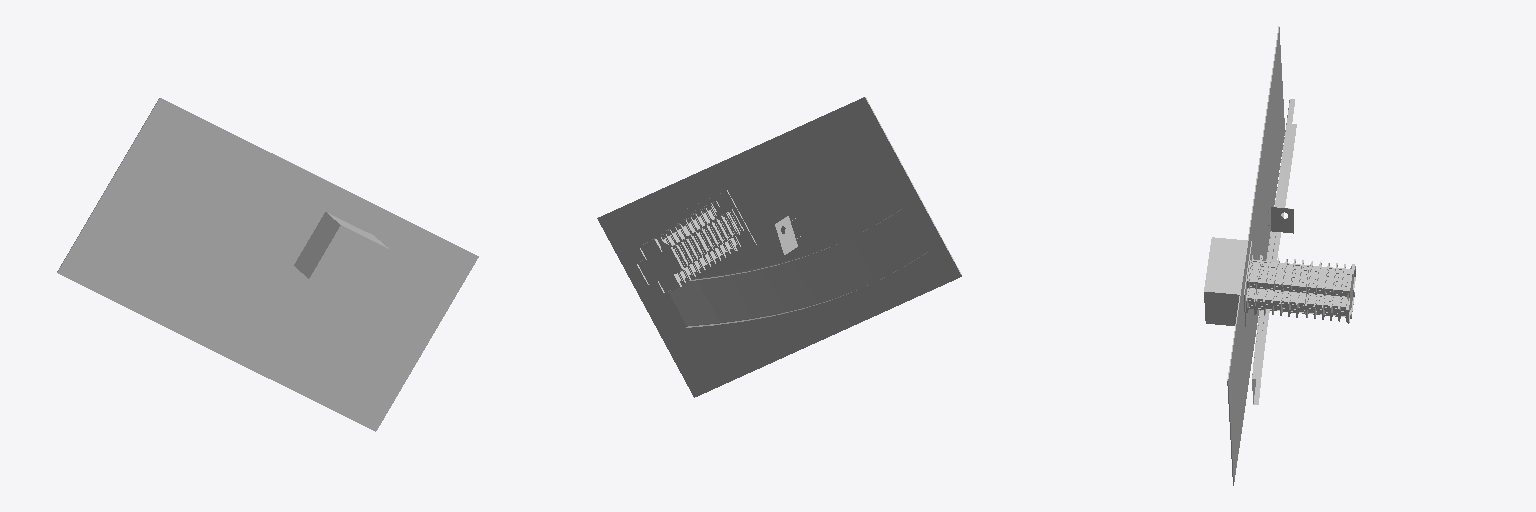
The picture shows the model from 3 angles: view 1: azimuth 30°, elevation 25°; view 2: azimuth 150°, elevation 25°; view 3: azimuth 270°, elevation 25°; orthographic projection.
Visible parts, largest first — view 1: base polySurface1, pCube925 polySurface1; view 2: base polySurface1, nurbsToPoly1 polySurface1, group13 polySurface2 polySurface1, pCube925 polySurface1; view 3: base polySurface1, pCube925 polySurface1, nurbsToPoly2 polySurface1, nurbsToPoly3 polySurface1, pCube2 polySurface1.
Part boxes in pixels (x1,y1,x2,y2): base polySurface1: (57,98,478,431); pCube925 polySurface1: (294,212,389,302); base polySurface1: (597,97,961,397); nurbsToPoly1 polySurface1: (669,207,928,325); group13 polySurface2 polySurface1: (636,238,684,294); pCube925 polySurface1: (686,190,756,263); base polySurface1: (1227,26,1284,485); pCube925 polySurface1: (1204,237,1252,326); nurbsToPoly2 polySurface1: (1252,99,1294,378); nurbsToPoly3 polySurface1: (1253,124,1296,404); pCube2 polySurface1: (1271,207,1293,233).
Bounding box in the file's own units: 73.71 × 65.28 × 24.68.